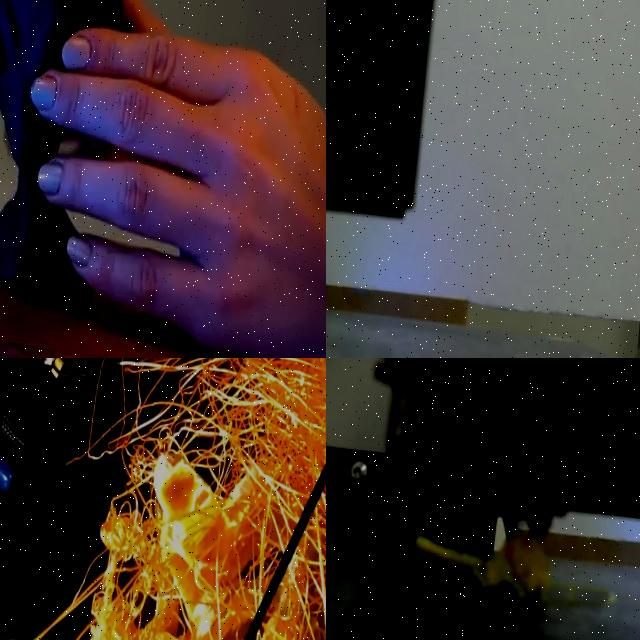spaghetti: (0, 358, 326, 640), (414, 530, 549, 596)
